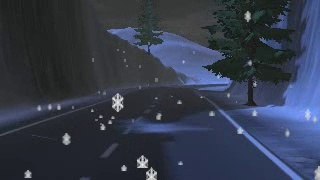Lane: (0, 83, 299, 179)
